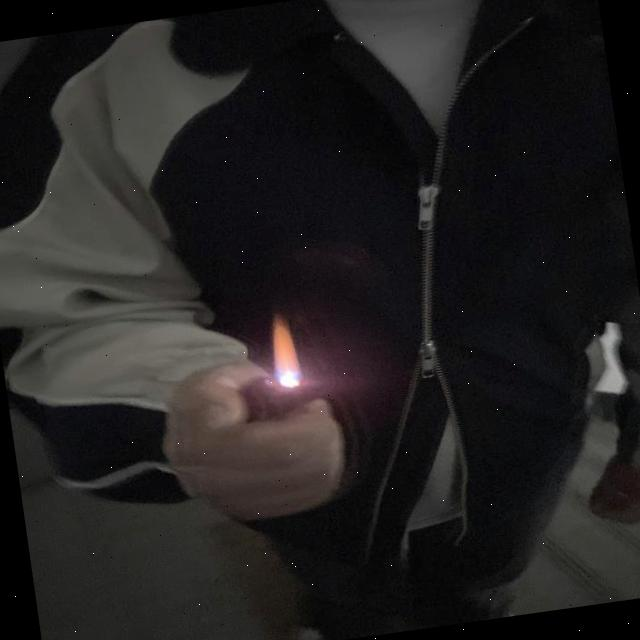fire: (268, 313, 302, 387)
